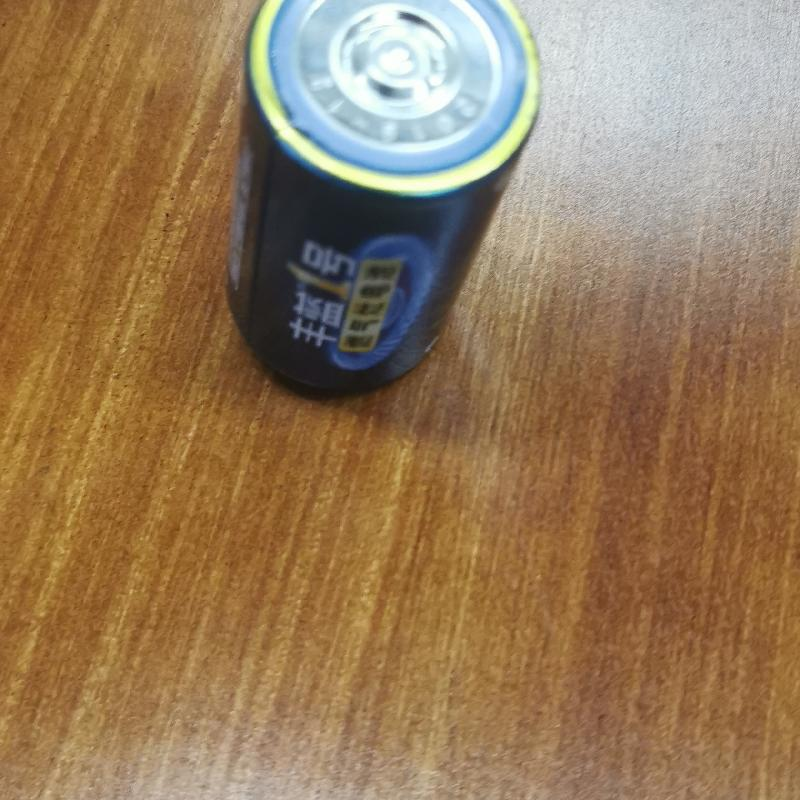battery: (223, 1, 544, 400)
